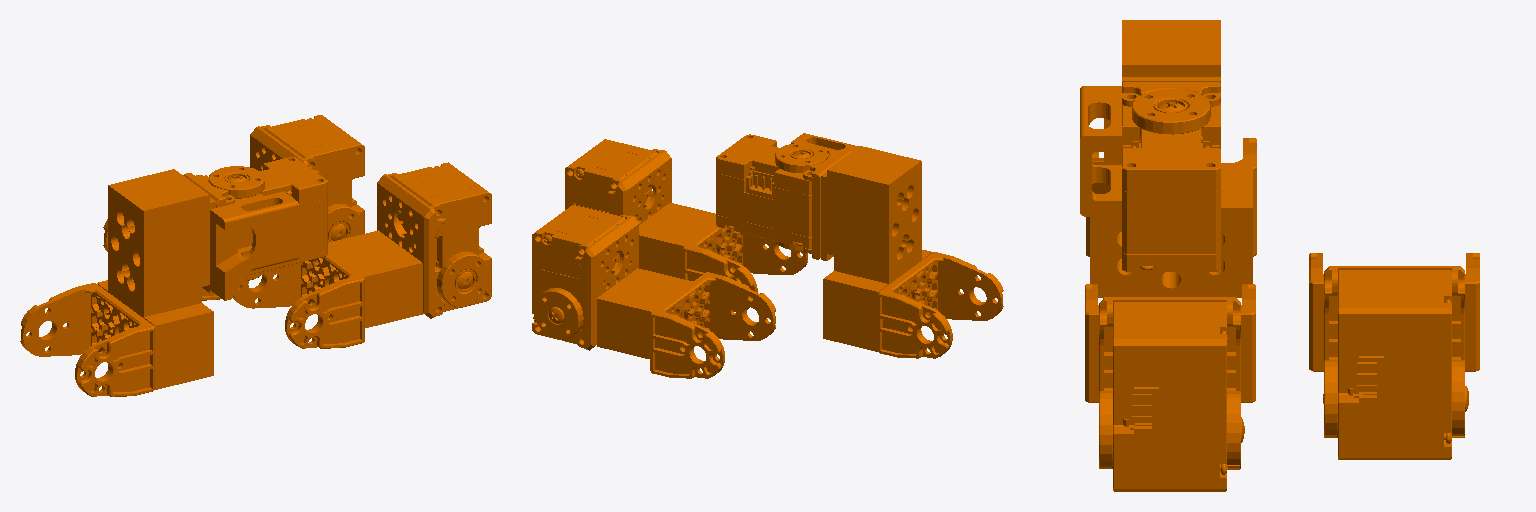
robot.urdf — onshape:
<robot name="onshape">
  <link name="palm_lower">
    <inertial>
      <origin xyz="0.0 0.0 0.0" rpy="0.0 -0.0 0.0"/>
      <mass value="0.237"/>
      <inertia ixx="0.000354094" ixy="-1.193e-06" ixz="-2.445e-06" iyy="0.000260915" iyz="-2.905e-06" izz="0.000529257"/>
    </inertial>
    <visual>
      <geometry>
        <mesh filename="../assets/leap/leap_hand/palm_lower.stl"/>
      </geometry>
      <origin xyz="-0.020095249652862544 0.025757756134899473 -0.034722403578460216" rpy="0.0 -0.0 0.0"/>
      <material name="palm_lower_material">
        <color rgba="0.6039215686274509 0.14901960784313725 0.14901960784313725 1.0"/>
      </material>
    </visual>
    <collision>
      <geometry>
        <mesh filename="../assets/leap/leap_hand/palm_lower.stl"/>
      </geometry>
      <origin xyz="-0.020095249652862544 0.025757756134899473 -0.034722403578460216" rpy="0.0 -0.0 0.0"/>
    </collision>
  </link>
  <link name="mcp_joint">
    <inertial>
      <origin xyz="0.0 0.0 0.0" rpy="0.0 -0.0 0.0"/>
      <mass value="0.044"/>
      <inertia ixx="1.1499e-05" ixy="3.049e-06" ixz="1.21e-07" iyy="7.796e-06" iyz="1.12e-07" izz="1.4759e-05"/>
    </inertial>
    <visual>
      <geometry>
        <mesh filename="../assets/leap/leap_hand/mcp_joint.stl"/>
      </geometry>
      <origin xyz="0.008406902261174496 0.0077662438597169954 0.014657354985032912" rpy="1.6375789613221e-15 -1.021047330249102e-30 1.7177968783327987e-31"/>
      <material name="mcp_joint_material">
        <color rgba="0.8666666666666667 0.8666666666666667 0.050980392156862744 1.0"/>
      </material>
    </visual>
    <collision>
      <geometry>
        <mesh filename="../assets/leap/leap_hand/mcp_joint.stl"/>
      </geometry>
      <origin xyz="0.008406902261174496 0.0077662438597169954 0.014657354985032912" rpy="1.6375789613221e-15 -1.021047330249102e-30 1.7177968783327987e-31"/>
    </collision>
  </link>
  <link name="pip">
    <inertial>
      <origin xyz="0.0 0.0 0.0" rpy="0.0 -0.0 0.0"/>
      <mass value="0.032"/>
      <inertia ixx="4.798e-06" ixy="1.2e-08" ixz="4e-09" iyy="2.862e-06" iyz="1.1e-08" izz="4.234e-06"/>
    </inertial>
    <visual>
      <geometry>
        <mesh filename="../assets/leap/leap_hand/pip.stl"/>
      </geometry>
      <origin xyz="0.009643363092271328 0.0002999999999999895 0.0007840340104173765" rpy="-1.5707963267948966 -1.5707963267948963 0.0"/>
      <material name="pip_material">
        <color rgba="0.7490196078431373 0.7490196078431373 0.7490196078431373 1.0"/>
      </material>
    </visual>
    <collision>
      <geometry>
        <mesh filename="../assets/leap/leap_hand/pip.stl"/>
      </geometry>
      <origin xyz="0.009643363092271328 0.0002999999999999895 0.0007840340104173765" rpy="-1.5707963267948966 -1.5707963267948963 0.0"/>
    </collision>
  </link>
  <link name="dip">
    <inertial>
      <origin xyz="0.0 0.0 0.0" rpy="0.0 -0.0 0.0"/>
      <mass value="0.037"/>
      <inertia ixx="5.542e-06" ixy="-6.07e-07" ixz="-1.7e-08" iyy="5.727e-06" iyz="-2.3e-08" izz="6.682e-06"/>
    </inertial>
    <visual>
      <geometry>
        <mesh filename="../assets/leap/leap_hand/dip.stl"/>
      </geometry>
      <origin xyz="0.021133352895225003 -0.00843211914670488 0.00978508816209524" rpy="-3.141592653589793 4.507511124216441e-32 4.439548105392361e-32"/>
      <material name="dip_material">
        <color rgba="0.8666666666666667 0.8666666666666667 0.050980392156862744 1.0"/>
      </material>
    </visual>
    <collision>
      <geometry>
        <mesh filename="../assets/leap/leap_hand/dip.stl"/>
      </geometry>
      <origin xyz="0.021133352895225003 -0.00843211914670488 0.00978508816209524" rpy="-3.141592653589793 4.507511124216441e-32 4.439548105392361e-32"/>
    </collision>
  </link>
  <link name="fingertip">
    <inertial>
      <origin xyz="0.0 0.0 0.0" rpy="0.0 -0.0 0.0"/>
      <mass value="0.016"/>
      <inertia ixx="3.368e-06" ixy="1.15e-07" ixz="0.0" iyy="1.556e-06" iyz="0.0" izz="2.863e-06"/>
    </inertial>
    <visual>
      <geometry>
        <mesh filename="../assets/leap/leap_hand/fingertip.stl"/>
      </geometry>
      <origin xyz="0.013286424108533503 -0.006114238386541987 0.014499999999999498" rpy="3.141592653589793 1.1993117970061735e-33 4.439548105392361e-32"/>
      <material name="fingertip_material">
        <color rgba="0.8666666666666667 0.8666666666666667 0.050980392156862744 1.0"/>
      </material>
    </visual>
    <collision>
      <geometry>
        <mesh filename="../assets/leap/leap_hand/fingertip.stl"/>
      </geometry>
      <origin xyz="0.013286424108533503 -0.006114238386541987 0.014499999999999498" rpy="3.141592653589793 1.1993117970061735e-33 4.439548105392361e-32"/>
    </collision>
  </link>
  <link name="pip_4">
    <inertial>
      <origin xyz="0.0 0.0 0.0" rpy="0.0 -0.0 0.0"/>
      <mass value="0.032"/>
      <inertia ixx="4.798e-06" ixy="1.2e-08" ixz="4e-09" iyy="2.862e-06" iyz="1.1e-08" izz="4.234e-06"/>
    </inertial>
    <visual>
      <geometry>
        <mesh filename="../assets/leap/leap_hand/pip.stl"/>
      </geometry>
      <origin xyz="-0.005356636907728671 0.0002999999999999999 0.0007840340104173782" rpy="-1.5707963267948966 -1.5707963267948963 0.0"/>
      <material name="pip_material">
        <color rgba="0.7490196078431373 0.7490196078431373 0.7490196078431373 1.0"/>
      </material>
    </visual>
    <collision>
      <geometry>
        <mesh filename="../assets/leap/leap_hand/pip.stl"/>
      </geometry>
      <origin xyz="-0.005356636907728671 0.0002999999999999999 0.0007840340104173782" rpy="-1.5707963267948966 -1.5707963267948963 0.0"/>
    </collision>
  </link>
  <link name="thumb_pip">
    <inertial>
      <origin xyz="0.0 0.0 0.0" rpy="0.0 -0.0 0.0"/>
      <mass value="0.003"/>
      <inertia ixx="5.93e-07" ixy="0.0" ixz="0.0" iyy="5.49e-07" iyz="0.0" izz="2.24e-07"/>
    </inertial>
    <visual>
      <geometry>
        <mesh filename="../assets/leap/leap_hand/thumb_pip.stl"/>
      </geometry>
      <origin xyz="0.011961920770611187 -5.30825383648903e-16 -0.0158526489566642" rpy="1.5707963267948966 1.6050198443300153e-46 -3.9204996250525193e-59"/>
      <material name="thumb_pip_material">
        <color rgba="0.8666666666666667 0.8666666666666667 0.050980392156862744 1.0"/>
      </material>
    </visual>
    <collision>
      <geometry>
        <mesh filename="../assets/leap/leap_hand/thumb_pip.stl"/>
      </geometry>
      <origin xyz="0.011961920770611187 -5.30825383648903e-16 -0.0158526489566642" rpy="1.5707963267948966 1.6050198443300153e-46 -3.9204996250525193e-59"/>
    </collision>
  </link>
  <link name="thumb_dip">
    <inertial>
      <origin xyz="0.0 0.0 0.0" rpy="0.0 -0.0 0.0"/>
      <mass value="0.038"/>
      <inertia ixx="8.474e-06" ixy="2.41e-07" ixz="2.6e-08" iyy="3.841e-06" iyz="2.5e-08" izz="7.679e-06"/>
    </inertial>
    <visual>
      <geometry>
        <mesh filename="../assets/leap/leap_hand/thumb_dip.stl"/>
      </geometry>
      <origin xyz="0.043968715707239175 0.0579529529737092 -0.008628676449369476" rpy="1.94289029309401e-16 3.27515792264422e-15 1.112375852965736e-46"/>
      <material name="thumb_dip_material">
        <color rgba="0.8666666666666667 0.8666666666666667 0.050980392156862744 1.0"/>
      </material>
    </visual>
    <collision>
      <geometry>
        <mesh filename="../assets/leap/leap_hand/thumb_dip.stl"/>
      </geometry>
      <origin xyz="0.043968715707239175 0.0579529529737092 -0.008628676449369476" rpy="1.94289029309401e-16 3.27515792264422e-15 1.112375852965736e-46"/>
    </collision>
  </link>
  <link name="thumb_fingertip">
    <inertial>
      <origin xyz="0.0 0.0 0.0" rpy="0.0 -0.0 0.0"/>
      <mass value="0.049"/>
      <inertia ixx="2.0372e-05" ixy="-4.89e-07" ixz="-3e-08" iyy="4.336e-06" iyz="-9.7e-08" izz="1.9845e-05"/>
    </inertial>
    <visual>
      <geometry>
        <mesh filename="../assets/leap/leap_hand/thumb_fingertip.stl"/>
      </geometry>
      <origin xyz="0.06255953846266739 0.07845968291139699 0.048992911807332215" rpy="4.379057701015637e-47 -3.33066907387547e-16 1.2042408677791935e-46"/>
      <material name="thumb_fingertip_material">
        <color rgba="0.6039215686274509 0.14901960784313725 0.14901960784313725 1.0"/>
      </material>
    </visual>
    <collision>
      <geometry>
        <mesh filename="../assets/leap/leap_hand/thumb_fingertip.stl"/>
      </geometry>
      <origin xyz="0.06255953846266739 0.07845968291139699 0.048992911807332215" rpy="4.379057701015637e-47 -3.33066907387547e-16 1.2042408677791935e-46"/>
    </collision>
  </link>
  <link name="mcp_joint_2">
    <inertial>
      <origin xyz="0.0 0.0 0.0" rpy="0.0 -0.0 0.0"/>
      <mass value="0.044"/>
      <inertia ixx="1.1499e-05" ixy="3.049e-06" ixz="1.21e-07" iyy="7.796e-06" iyz="1.12e-07" izz="1.4759e-05"/>
    </inertial>
    <visual>
      <geometry>
        <mesh filename="../assets/leap/leap_hand/mcp_joint.stl"/>
      </geometry>
      <origin xyz="0.008406902261174496 0.0077662438597169954 0.014657354985032914" rpy="1.6375789613221e-15 -1.0076465469034e-30 2.1209300131419907e-61"/>
      <material name="mcp_joint_material">
        <color rgba="0.8666666666666667 0.8666666666666667 0.050980392156862744 1.0"/>
      </material>
    </visual>
    <collision>
      <geometry>
        <mesh filename="../assets/leap/leap_hand/mcp_joint.stl"/>
      </geometry>
      <origin xyz="0.008406902261174496 0.0077662438597169954 0.014657354985032914" rpy="1.6375789613221e-15 -1.0076465469034e-30 2.1209300131419907e-61"/>
    </collision>
  </link>
  <link name="pip_2">
    <inertial>
      <origin xyz="0.0 0.0 0.0" rpy="0.0 -0.0 0.0"/>
      <mass value="0.032"/>
      <inertia ixx="4.798e-06" ixy="1.2e-08" ixz="4e-09" iyy="2.862e-06" iyz="1.1e-08" izz="4.234e-06"/>
    </inertial>
    <visual>
      <geometry>
        <mesh filename="../assets/leap/leap_hand/pip.stl"/>
      </geometry>
      <origin xyz="0.009643363092271328 0.0002999999999999947 0.0007840340104173765" rpy="-1.5707963267948966 -1.5707963267948963 0.0"/>
      <material name="pip_material">
        <color rgba="0.7490196078431373 0.7490196078431373 0.7490196078431373 1.0"/>
      </material>
    </visual>
    <collision>
      <geometry>
        <mesh filename="../assets/leap/leap_hand/pip.stl"/>
      </geometry>
      <origin xyz="0.009643363092271328 0.0002999999999999947 0.0007840340104173765" rpy="-1.5707963267948966 -1.5707963267948963 0.0"/>
    </collision>
  </link>
  <link name="dip_2_long">
    <inertial>
      <origin xyz="0.0 0.0 0.0" rpy="0.0 -0.0 0.0"/>
      <mass value="0.037"/>
      <inertia ixx="5.542e-06" ixy="-6.07e-07" ixz="-1.7e-08" iyy="5.727e-06" iyz="-2.3e-08" izz="6.682e-06"/>
    </inertial>
    <visual>
      <geometry>
        <mesh filename="custom_models/dip_long.stl"/>
      </geometry>
      <origin xyz="0.021133352895225003 -0.008432119146704865 0.009785088162095237" rpy="-3.141592653589793 2.1146933785271956e-32 1.4408183216511869e-31"/>
      <material name="dip_material">
        <color rgba="0.878 0.467 0.0 1.0"/>
      </material>
    </visual>
    <collision>
      <geometry>
        <mesh filename="custom_models/dip_long.stl"/>
      </geometry>
      <origin xyz="0.021133352895225003 -0.008432119146704865 0.009785088162095237" rpy="-3.141592653589793 2.1146933785271956e-32 1.4408183216511869e-31"/>
    </collision>
  </link>
  <link name="fingertip_2">
    <inertial>
      <origin xyz="0.0 0.0 0.0" rpy="0.0 -0.0 0.0"/>
      <mass value="0.016"/>
      <inertia ixx="3.368e-06" ixy="1.15e-07" ixz="0.0" iyy="1.556e-06" iyz="0.0" izz="2.863e-06"/>
    </inertial>
    <visual>
      <geometry>
        <mesh filename="../assets/leap/leap_hand/fingertip.stl"/>
      </geometry>
      <origin xyz="0.013286424108533496 -0.006114238386542001 0.014499999999999496" rpy="3.141592653589793 -4.317959788283594e-33 1.4408183216511869e-31"/>
      <material name="fingertip_material">
        <color rgba="0.8666666666666667 0.8666666666666667 0.050980392156862744 1.0"/>
      </material>
    </visual>
    <collision>
      <geometry>
        <mesh filename="../assets/leap/leap_hand/fingertip.stl"/>
      </geometry>
      <origin xyz="0.013286424108533496 -0.006114238386542001 0.014499999999999496" rpy="3.141592653589793 -4.317959788283594e-33 1.4408183216511869e-31"/>
    </collision>
  </link>
  <link name="mcp_joint_3_long">
    <inertial>
      <origin xyz="0.0 0.0 0.0" rpy="0.0 -0.0 0.0"/>
      <mass value="0.044"/>
      <inertia ixx="1.1499e-05" ixy="3.049e-06" ixz="1.21e-07" iyy="7.796e-06" iyz="1.12e-07" izz="1.4759e-05"/>
    </inertial>
    <visual>
      <geometry>
        <mesh filename="custom_models/mcp_joint_long.stl"/>
      </geometry>
      <origin xyz="0.0084069022611745 0.007766243859716996 0.014657354985032914" rpy="1.6375789613221e-15 -1.0059504988632627e-30 5.729641584552035e-32"/>
      <material name="mcp_joint_material">
        <color rgba="0.878 0.467 0.0 1.0"/>
      </material>
    </visual>
    <collision>
      <geometry>
        <mesh filename="custom_models/mcp_joint_long.stl"/>
      </geometry>
      <origin xyz="0.0084069022611745 0.007766243859716996 0.014657354985032914" rpy="1.6375789613221e-15 -1.0059504988632627e-30 5.729641584552035e-32"/>
    </collision>
  </link>
  <link name="pip_3">
    <inertial>
      <origin xyz="0.0 0.0 0.0" rpy="0.0 -0.0 0.0"/>
      <mass value="0.032"/>
      <inertia ixx="4.798e-06" ixy="1.2e-08" ixz="4e-09" iyy="2.862e-06" iyz="1.1e-08" izz="4.234e-06"/>
    </inertial>
    <visual>
      <geometry>
        <mesh filename="../assets/leap/leap_hand/pip.stl"/>
      </geometry>
      <origin xyz="0.009643363092271331 0.00029999999999998084 0.0007840340104173765" rpy="-1.5707963267948966 -1.5707963267948963 0.0"/>
      <material name="pip_material">
        <color rgba="0.7490196078431373 0.7490196078431373 0.7490196078431373 1.0"/>
      </material>
    </visual>
    <collision>
      <geometry>
        <mesh filename="../assets/leap/leap_hand/pip.stl"/>
      </geometry>
      <origin xyz="0.009643363092271331 0.00029999999999998084 0.0007840340104173765" rpy="-1.5707963267948966 -1.5707963267948963 0.0"/>
    </collision>
  </link>
  <link name="dip_3_long">
    <inertial>
      <origin xyz="0.0 0.0 0.0" rpy="0.0 -0.0 0.0"/>
      <mass value="0.037"/>
      <inertia ixx="5.542e-06" ixy="-6.07e-07" ixz="-1.7e-08" iyy="5.727e-06" iyz="-2.3e-08" izz="6.682e-06"/>
    </inertial>
    <visual>
      <geometry>
        <mesh filename="custom_models/dip_long.stl"/>
      </geometry>
      <origin xyz="0.021133352895225006 -0.008432119146704865 0.009785088162095237" rpy="-3.141592653589793 -1.4095651113919093e-33 1.5565411607615035e-32"/>
      <material name="dip_material">
        <color rgba="0.878 0.467 0.0 1.0"/>
      </material>
    </visual>
    <collision>
      <geometry>
        <mesh filename="custom_models/dip_long.stl"/>
      </geometry>
      <origin xyz="0.021133352895225006 -0.008432119146704865 0.009785088162095237" rpy="-3.141592653589793 -1.4095651113919093e-33 1.5565411607615035e-32"/>
    </collision>
  </link>
  <link name="fingertip_3">
    <inertial>
      <origin xyz="0.0 0.0 0.0" rpy="0.0 -0.0 0.0"/>
      <mass value="0.016"/>
      <inertia ixx="3.368e-06" ixy="1.15e-07" ixz="0.0" iyy="1.556e-06" iyz="0.0" izz="2.863e-06"/>
    </inertial>
    <visual>
      <geometry>
        <mesh filename="../assets/leap/leap_hand/fingertip.stl"/>
      </geometry>
      <origin xyz="0.013286424108533501 -0.006114238386541987 0.0144999999999995" rpy="3.141592653589793 8.61707169505754e-33 1.5565411607615035e-32"/>
      <material name="fingertip_material">
        <color rgba="0.8666666666666667 0.8666666666666667 0.050980392156862744 1.0"/>
      </material>
    </visual>
    <collision>
      <geometry>
        <mesh filename="../assets/leap/leap_hand/fingertip.stl"/>
      </geometry>
      <origin xyz="0.013286424108533501 -0.006114238386541987 0.0144999999999995" rpy="3.141592653589793 8.61707169505754e-33 1.5565411607615035e-32"/>
    </collision>
  </link>
  <joint name="1" type="revolute">
    <parent link="palm_lower"/>
    <child link="mcp_joint"/>
    <origin xyz="-0.007095249652862546 0.023057756134899472 -0.01872240357846022" rpy="1.570796326794895 1.5707963267948946 0.0"/>
    <axis xyz="0.0 0.0 -1.0"/>
    <limit effort="0.95" velocity="8.48" lower="-0.314" upper="2.23"/>
  </joint>
  <joint name="0" type="revolute">
    <parent link="mcp_joint"/>
    <child link="pip"/>
    <origin xyz="-0.012200000000000008 0.038099999999999995 0.0145" rpy="-1.5707963267948966 -1.0065212660796337e-15 1.5707963267948943"/>
    <axis xyz="0.0 0.0 -1.0"/>
    <limit effort="0.95" velocity="8.48" lower="-1.047" upper="1.047"/>
  </joint>
  <joint name="2" type="revolute">
    <parent link="pip"/>
    <child link="dip"/>
    <origin xyz="0.014999999999999968 0.014299999999999905 -0.012999999999999824" rpy="1.570796326794896 -1.5707963267948963 0.0"/>
    <axis xyz="0.0 0.0 -1.0"/>
    <limit effort="0.95" velocity="8.48" lower="-0.506" upper="1.885"/>
  </joint>
  <joint name="3" type="revolute">
    <parent link="dip"/>
    <child link="fingertip"/>
    <origin xyz="-4.088058249557269e-09 -0.03610000421036737 0.0002000000000000786" rpy="4.5935029425113685e-17 -2.8730071914463795e-16 4.439548105392361e-32"/>
    <axis xyz="0.0 0.0 -1.0"/>
    <limit effort="0.95" velocity="8.48" lower="-0.366" upper="2.042"/>
  </joint>
  <joint name="12" type="revolute">
    <parent link="palm_lower"/>
    <child link="pip_4"/>
    <origin xyz="-0.06939524965286253 -0.0012422438651005258 -0.021622403578460216" rpy="-8.238176646493942e-17 1.5707963267948957 0.0"/>
    <axis xyz="0.0 0.0 -1.0"/>
    <limit effort="0.95" velocity="8.48" lower="-0.349" upper="2.094"/>
  </joint>
  <joint name="13" type="revolute">
    <parent link="pip_4"/>
    <child link="thumb_pip"/>
    <origin xyz="-2.7755575615628914e-17 0.014300000000000005 -0.013000000000000012" rpy="1.570796326794896 -1.5707963267948963 0.0"/>
    <axis xyz="0.0 0.0 -1.0"/>
    <limit effort="0.95" velocity="8.48" lower="-0.47" upper="2.443"/>
  </joint>
  <joint name="14" type="revolute">
    <parent link="thumb_pip"/>
    <child link="thumb_dip"/>
    <origin xyz="0.0 0.014499999999999966 -0.017000000000000053" rpy="-1.5707963267948966 1.6050198443300131e-46 -1.9721522630516625e-31"/>
    <axis xyz="0.0 0.0 -1.0"/>
    <limit effort="0.95" velocity="8.48" lower="-1.2" upper="1.9"/>
  </joint>
  <joint name="15" type="revolute">
    <parent link="thumb_dip"/>
    <child link="thumb_fingertip"/>
    <origin xyz="-1.249000902703301e-16 0.046599999999999864 0.0001999999999999771" rpy="1.506395849149178e-44 5.423418723393526e-31 3.141592653589793"/>
    <axis xyz="0.0 0.0 -1.0"/>
    <limit effort="0.95" velocity="8.48" lower="-1.34" upper="1.88"/>
  </joint>
  <joint name="5" type="revolute">
    <parent link="palm_lower"/>
    <child link="mcp_joint_2"/>
    <origin xyz="-0.007095249652862546 -0.022392243865100525 -0.01872240357846022" rpy="1.570796326794895 1.5707963267948946 0.0"/>
    <axis xyz="0.0 0.0 -1.0"/>
    <limit effort="0.95" velocity="8.48" lower="-0.314" upper="2.23"/>
  </joint>
  <joint name="4" type="revolute">
    <parent link="mcp_joint_2"/>
    <child link="pip_2"/>
    <origin xyz="-0.012200000000000008 0.038099999999999995 0.0145" rpy="-1.5707963267948966 -1.0065212660796337e-15 1.5707963267948943"/>
    <axis xyz="0.0 0.0 -1.0"/>
    <limit effort="0.95" velocity="8.48" lower="-1.047" upper="1.047"/>
  </joint>
  <joint name="6" type="revolute">
    <parent link="pip_2"/>
    <child link="dip_2_long"/>
    <origin xyz="0.014999999999999968 0.014299999999999905 -0.012999999999999824" rpy="1.570796326794896 -1.5707963267948963 0.0"/>
    <axis xyz="0.0 0.0 -1.0"/>
    <limit effort="0.95" velocity="8.48" lower="-0.506" upper="1.885"/>
  </joint>
  <joint name="7" type="revolute">
    <parent link="dip_2_long"/>
    <child link="fingertip_2"/>
    <origin xyz="-4.0880582495572692636e-09 -0.051100004210367367397 0.00020000000000007858714" rpy="4.5935029425113685e-17 -2.8730071914463795e-16 4.439548105392361e-32"/>
    <axis xyz="0.0 0.0 -1.0"/>
    <limit effort="0.95" velocity="8.48" lower="-0.366" upper="2.042"/>
  </joint>
  <joint name="9" type="revolute">
    <parent link="palm_lower"/>
    <child link="mcp_joint_3_long"/>
    <origin xyz="-0.007095249652862546 -0.06784224386510052 -0.01872240357846022" rpy="1.570796326794895 1.5707963267948946 0.0"/>
    <axis xyz="0.0 0.0 -1.0"/>
    <limit effort="0.95" velocity="8.48" lower="-0.314" upper="2.23"/>
  </joint>
  <joint name="8" type="revolute">
    <parent link="mcp_joint_3_long"/>
    <child link="pip_3"/>
    <origin xyz="-0.012200000000000007713 0.053099999999999994982 0.014500000000000000736" rpy="-1.5707963267948966 -1.0065212660796337e-15 1.5707963267948943"/>
    <axis xyz="0.0 0.0 -1.0"/>
    <limit effort="0.95" velocity="8.48" lower="-1.047" upper="1.047"/>
  </joint>
  <joint name="10" type="revolute">
    <parent link="pip_3"/>
    <child link="dip_3_long"/>
    <origin xyz="0.014999999999999968 0.014299999999999905 -0.012999999999999824" rpy="1.570796326794896 -1.5707963267948963 0.0"/>
    <axis xyz="0.0 0.0 -1.0"/>
    <limit effort="0.95" velocity="8.48" lower="-0.506" upper="1.885"/>
  </joint>
  <joint name="11" type="revolute">
    <parent link="dip_3_long"/>
    <child link="fingertip_3"/>
    <origin xyz="-4.0880582495572692636e-09 -0.051100004210367367397 0.00020000000000007858714" rpy="4.5935029425113685e-17 -2.8730071914463795e-16 4.439548105392361e-32"/>
    <axis xyz="0.0 0.0 -1.0"/>
    <limit effort="0.95" velocity="8.48" lower="-0.366" upper="2.042"/>
  </joint>
</robot>

--- Render facts (derived) ---
3 views of the same robot in one strip: view 1: azimuth 30°, elevation 25°; view 2: azimuth 150°, elevation 25°; view 3: azimuth 270°, elevation 25° (orthographic).
Robot: onshape — 17 links, 16 joints (16 revolute); root link palm_lower; default pose: all joints at 0.
Links seen in each view (by area): view 1: mcp_joint_3_long, dip_3_long, dip_2_long; view 2: mcp_joint_3_long, dip_2_long, dip_3_long; view 3: mcp_joint_3_long, dip_3_long, dip_2_long.
Boxes of the visible links, x1,y1,x2,y2 form: mcp_joint_3_long: (20, 157, 327, 396); dip_3_long: (233, 162, 491, 348); dip_2_long: (103, 115, 364, 300); mcp_joint_3_long: (716, 133, 1003, 358); dip_2_long: (532, 205, 775, 378); dip_3_long: (565, 139, 807, 311); mcp_joint_3_long: (1080, 20, 1256, 297); dip_3_long: (1085, 284, 1255, 491); dip_2_long: (1309, 253, 1479, 459).
Bounding box of the posed robot: 0.1371 × 0.0811 × 0.0538 m (x, y, z).
3 mesh visuals loaded from 10 distinct referenced files (2 binary STL); not drawn: 14 (reference not matched to a file when rendering).